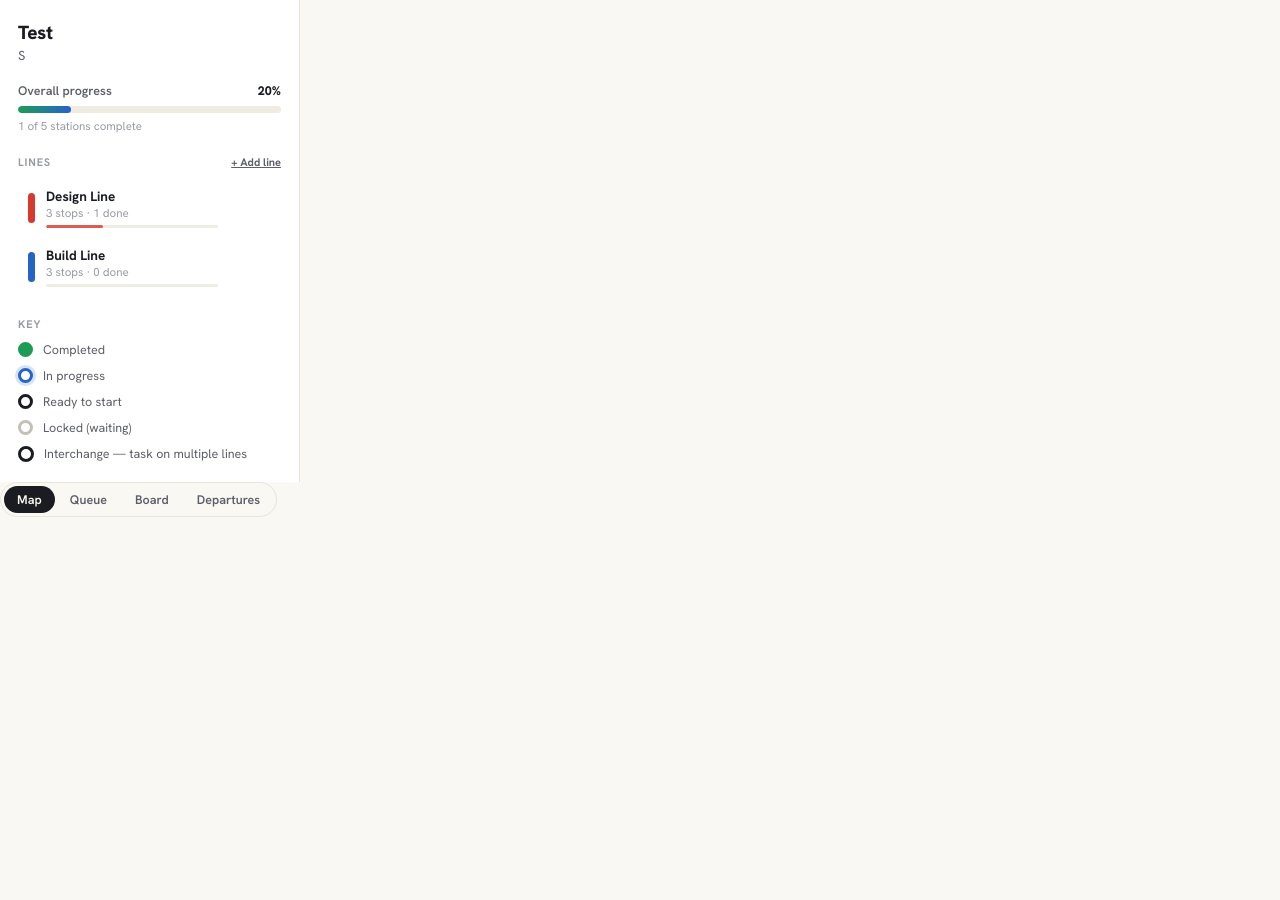
Test case: line filtering on the boards › Board removes them entirely in hide mode
Expected: the element with class "lines-list" is shown, [18,179,228,295]
Step 1. Click the button "Board" → (152, 500), box [122,486,182,513]
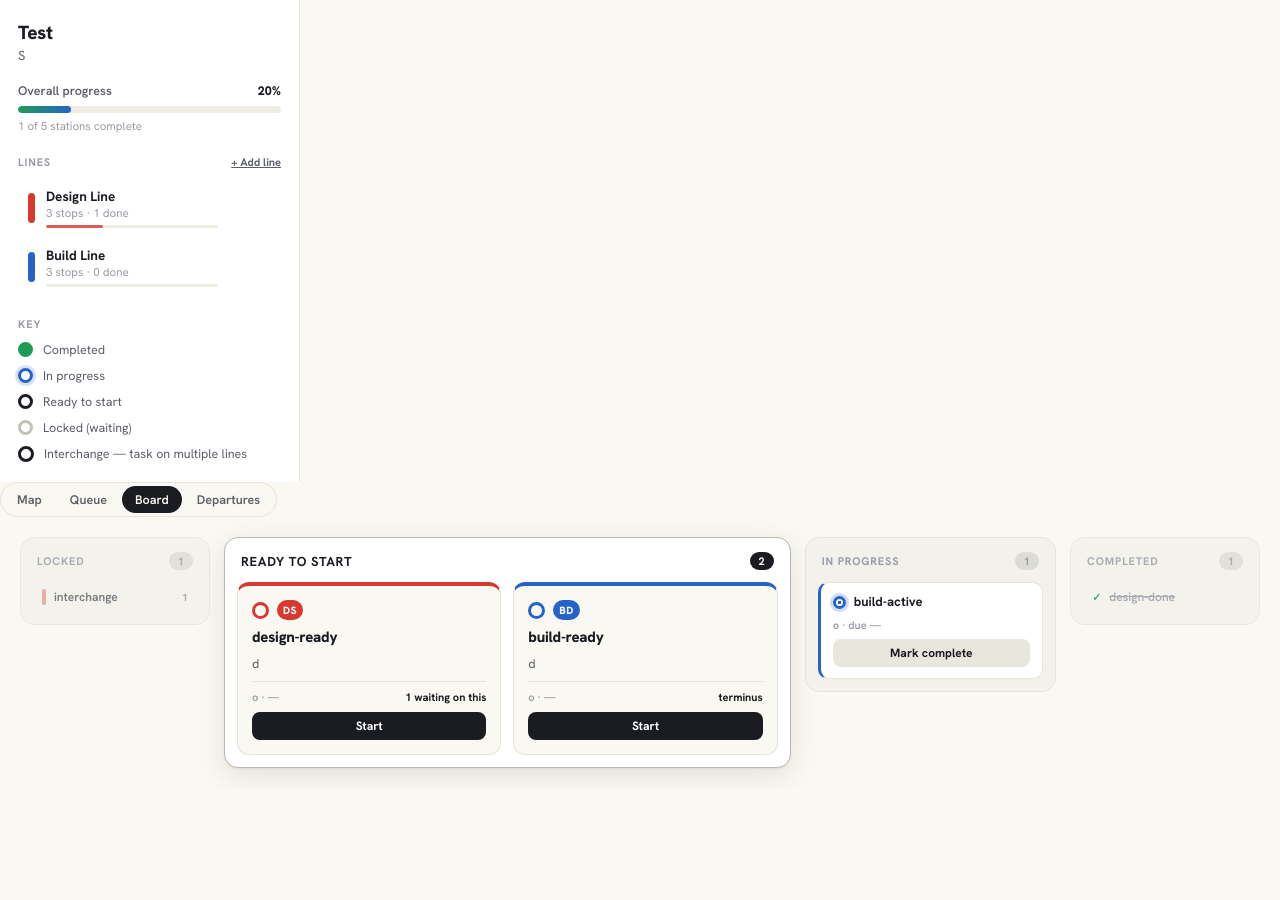
Result: the element with class "board" is shown at [0,517,1279,788]
Step 2. Click the button with class "line-row-btn" showing "Design Line 3 stops · 1 done" → (123, 208), box [18,179,228,236]
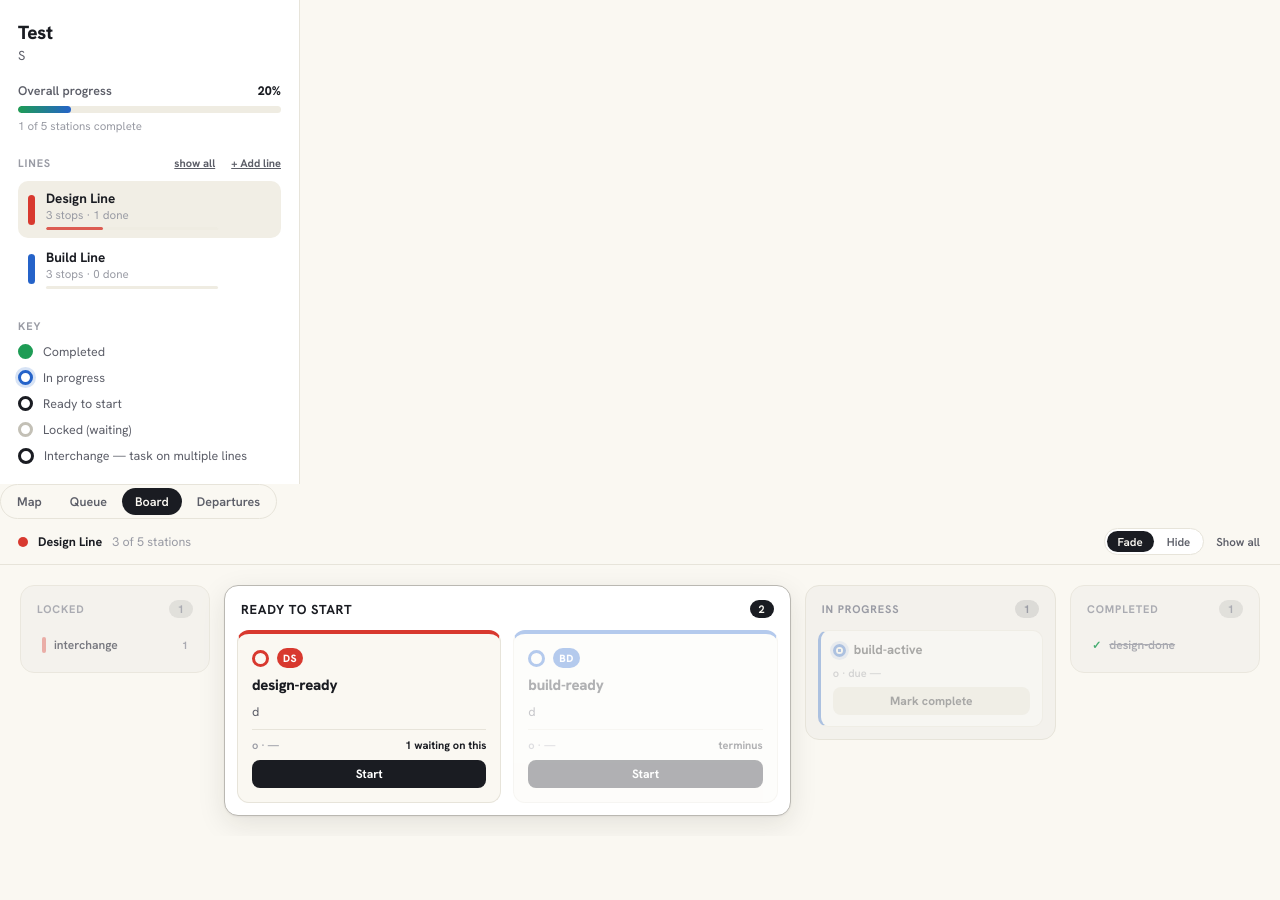
Result: the element with class "filter-bar" is shown at [0,519,1279,565]
Step 3. Click the button with class "filter-seg" showing "Hide" → (1179, 542), box [1156,531,1201,552]
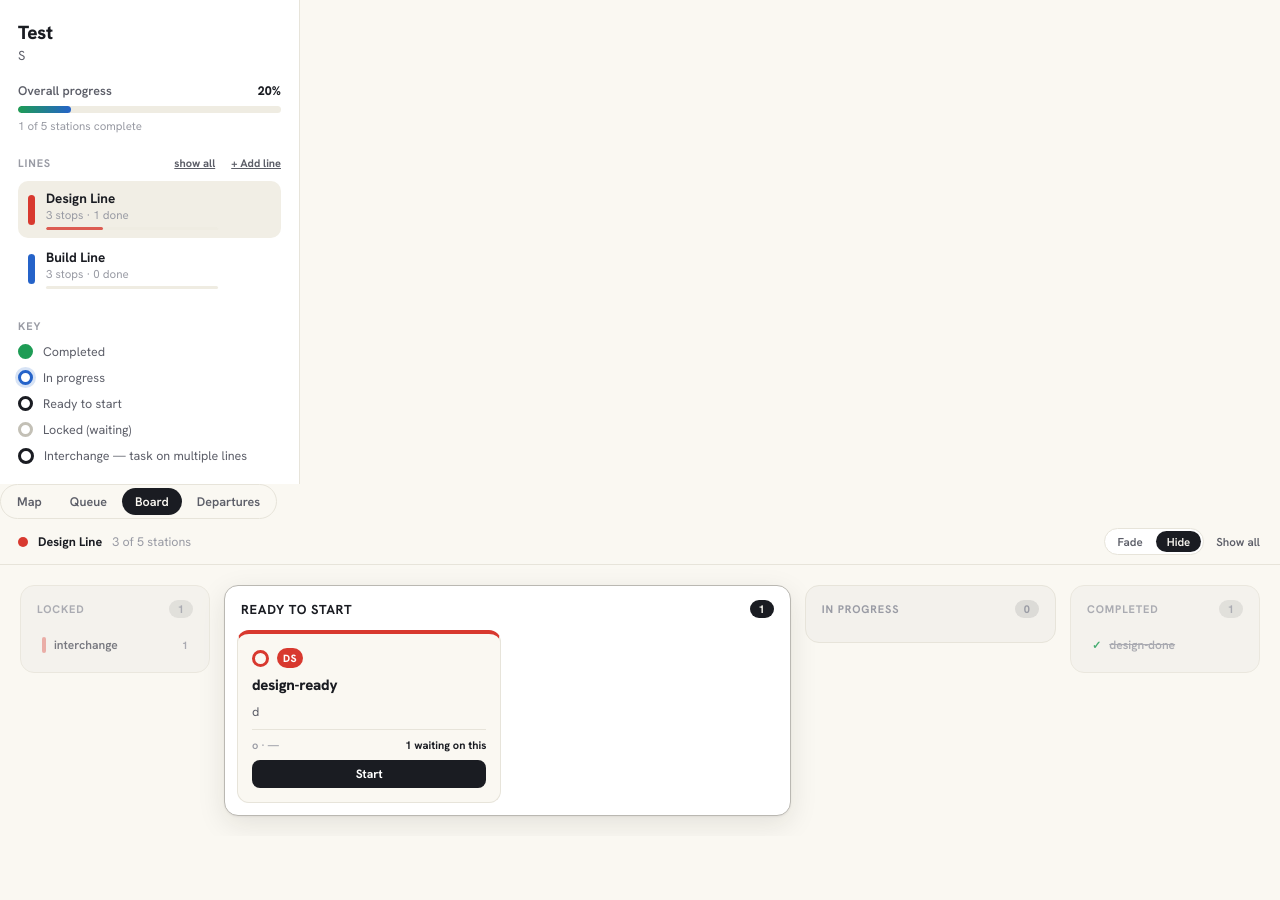
Result: no list items with class "dim" are shown
